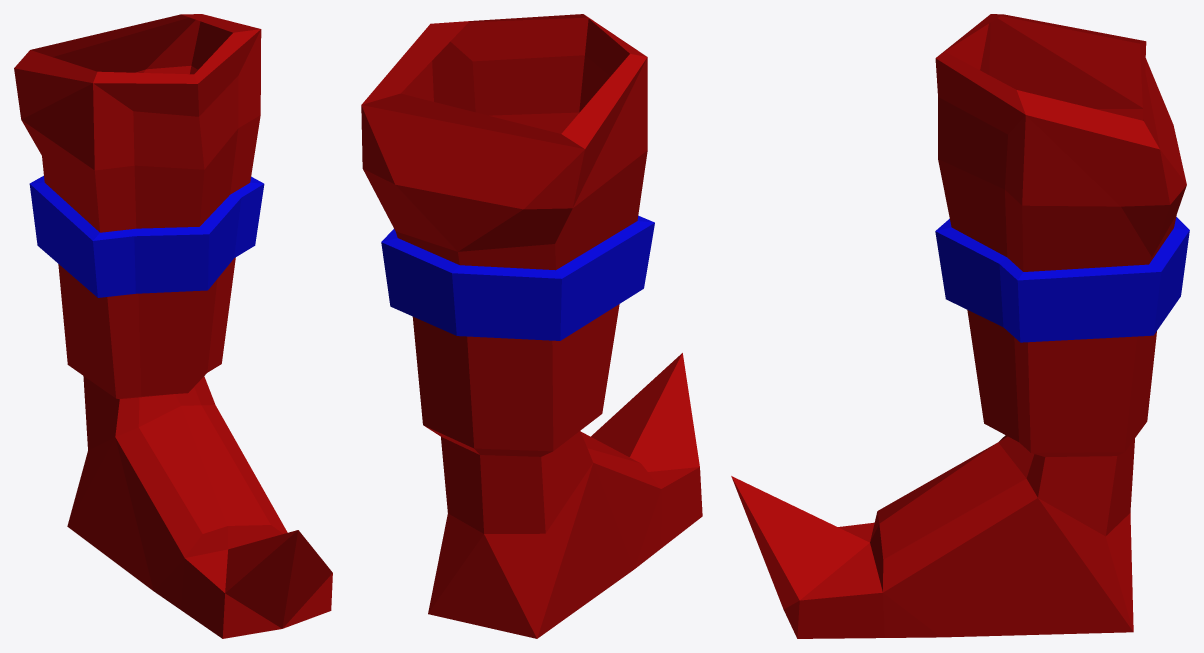
File: Chr_LegRight_Male_Static_02.fbx
3 renders of one model, left to right at view 1: azimuth 30°, elevation 25°; view 2: azimuth 150°, elevation 25°; view 3: azimuth 270°, elevation 25°, orthographic. The views are drawn at different scales.
Visible parts, largest first — view 1: Chr_LegRight_Male_02; view 2: Chr_LegRight_Male_02; view 3: Chr_LegRight_Male_02.
Part boxes in pixels (left/top/right/bottom): Chr_LegRight_Male_02: left=14, top=14, right=332, bottom=638; Chr_LegRight_Male_02: left=361, top=14, right=702, bottom=638; Chr_LegRight_Male_02: left=731, top=14, right=1189, bottom=638.
Bounding box in the file's own units: 16.56 × 40.45 × 30.56.
